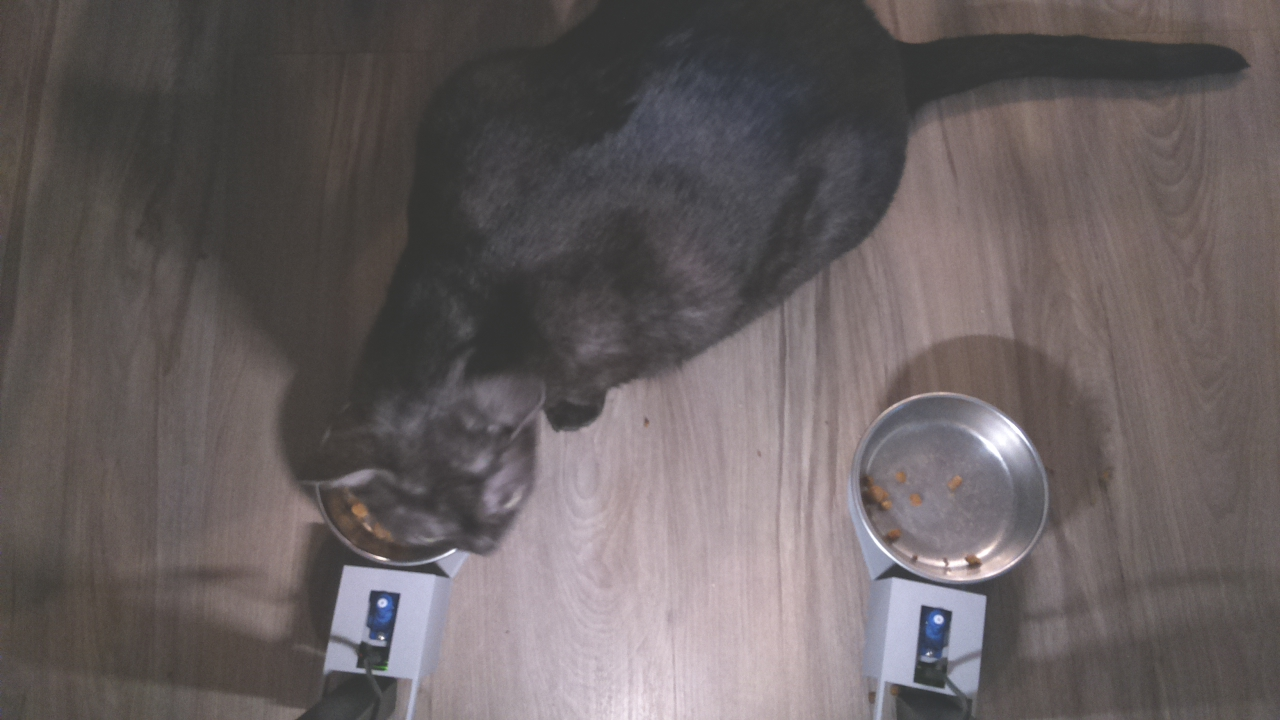open_bowl: (850, 387, 1054, 583)
saki_eating: (292, 322, 548, 577)
